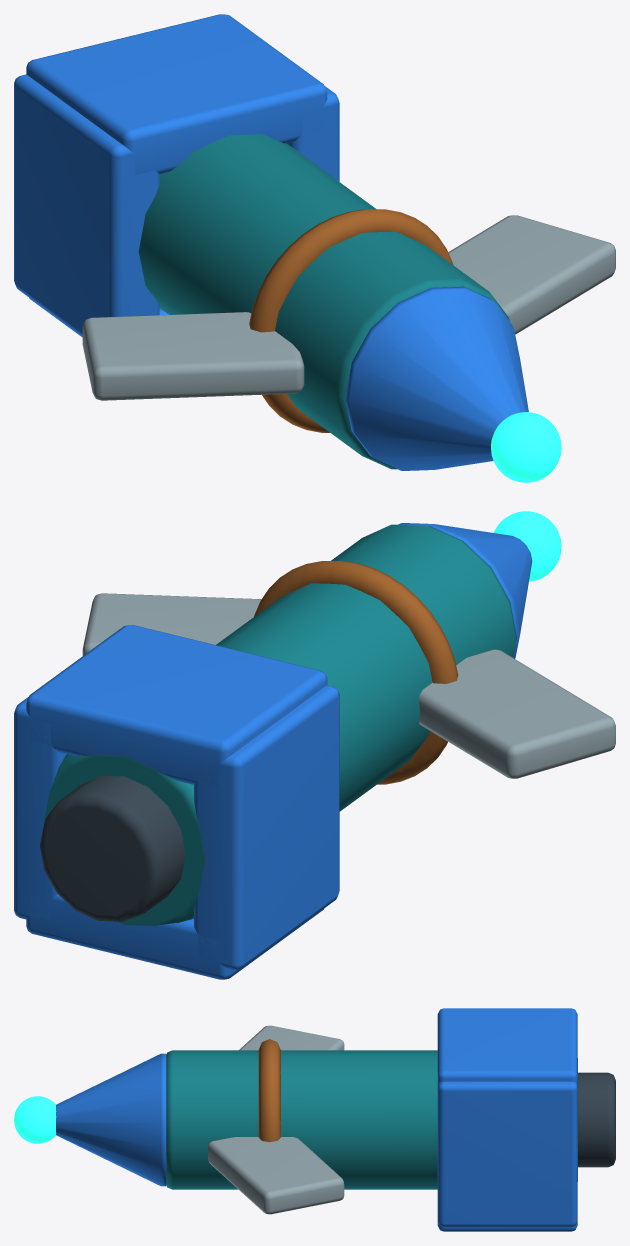
The model's file is MultiMissile_Special.fbx.
3 views of the same model, one above another, from view 1: azimuth 30°, elevation 25°; view 2: azimuth 150°, elevation 25°; view 3: azimuth 270°, elevation 25° (orthographic). The views are drawn at different scales.
Parts seen in each view (by area): view 1: Rocket body.003, Tail stabilizer.013, Tail stabilizer.014, Seeker nose.003, Guidance wing.002, Guidance wing.003, Identification band.003, Guidance lens.001, Tail stabilizer.012; view 2: Rocket body.003, Tail stabilizer.014, Tail stabilizer.013, Engine nozzle.003, Guidance wing.002, Tail stabilizer.015, Identification band.003, Tail stabilizer.012, Guidance wing.003, Seeker nose.003, Guidance lens.001; view 3: Rocket body.003, Tail stabilizer.012, Tail stabilizer.013, Seeker nose.003, Guidance wing.003, Engine nozzle.003, Identification band.003, Guidance lens.001, Guidance wing.002, Tail stabilizer.015.
Part boxes in pixels (box(x1,y1,x2,y2)): Rocket body.003: box(138, 134, 509, 469); Tail stabilizer.013: box(26, 14, 327, 175); Tail stabilizer.014: box(14, 74, 159, 336); Seeker nose.003: box(345, 286, 528, 470); Guidance wing.002: box(82, 312, 304, 400); Guidance wing.003: box(448, 215, 615, 334); Identification band.003: box(249, 209, 453, 432); Guidance lens.001: box(491, 412, 561, 482); Tail stabilizer.012: box(287, 86, 339, 181); Rocket body.003: box(44, 524, 516, 925); Tail stabilizer.014: box(194, 685, 339, 969); Tail stabilizer.013: box(26, 625, 327, 785); Engine nozzle.003: box(40, 775, 185, 921); Guidance wing.002: box(419, 649, 615, 778); Tail stabilizer.015: box(26, 894, 323, 979); Identification band.003: box(254, 561, 458, 784); Tail stabilizer.012: box(14, 697, 66, 920); Guidance wing.003: box(82, 593, 261, 655); Seeker nose.003: box(398, 523, 532, 658); Guidance lens.001: box(493, 511, 561, 581); Rocket body.003: box(166, 1050, 577, 1189); Tail stabilizer.012: box(437, 1081, 577, 1226); Tail stabilizer.013: box(437, 1008, 577, 1084); Seeker nose.003: box(56, 1053, 166, 1186); Guidance wing.003: box(208, 1137, 344, 1214); Engine nozzle.003: box(578, 1072, 615, 1167); Identification band.003: box(258, 1039, 280, 1142); Guidance lens.001: box(14, 1096, 56, 1143); Guidance wing.002: box(239, 1025, 344, 1050); Tail stabilizer.015: box(437, 1221, 577, 1231).
Size of the model in its own units: 127 by 56 by 189.
